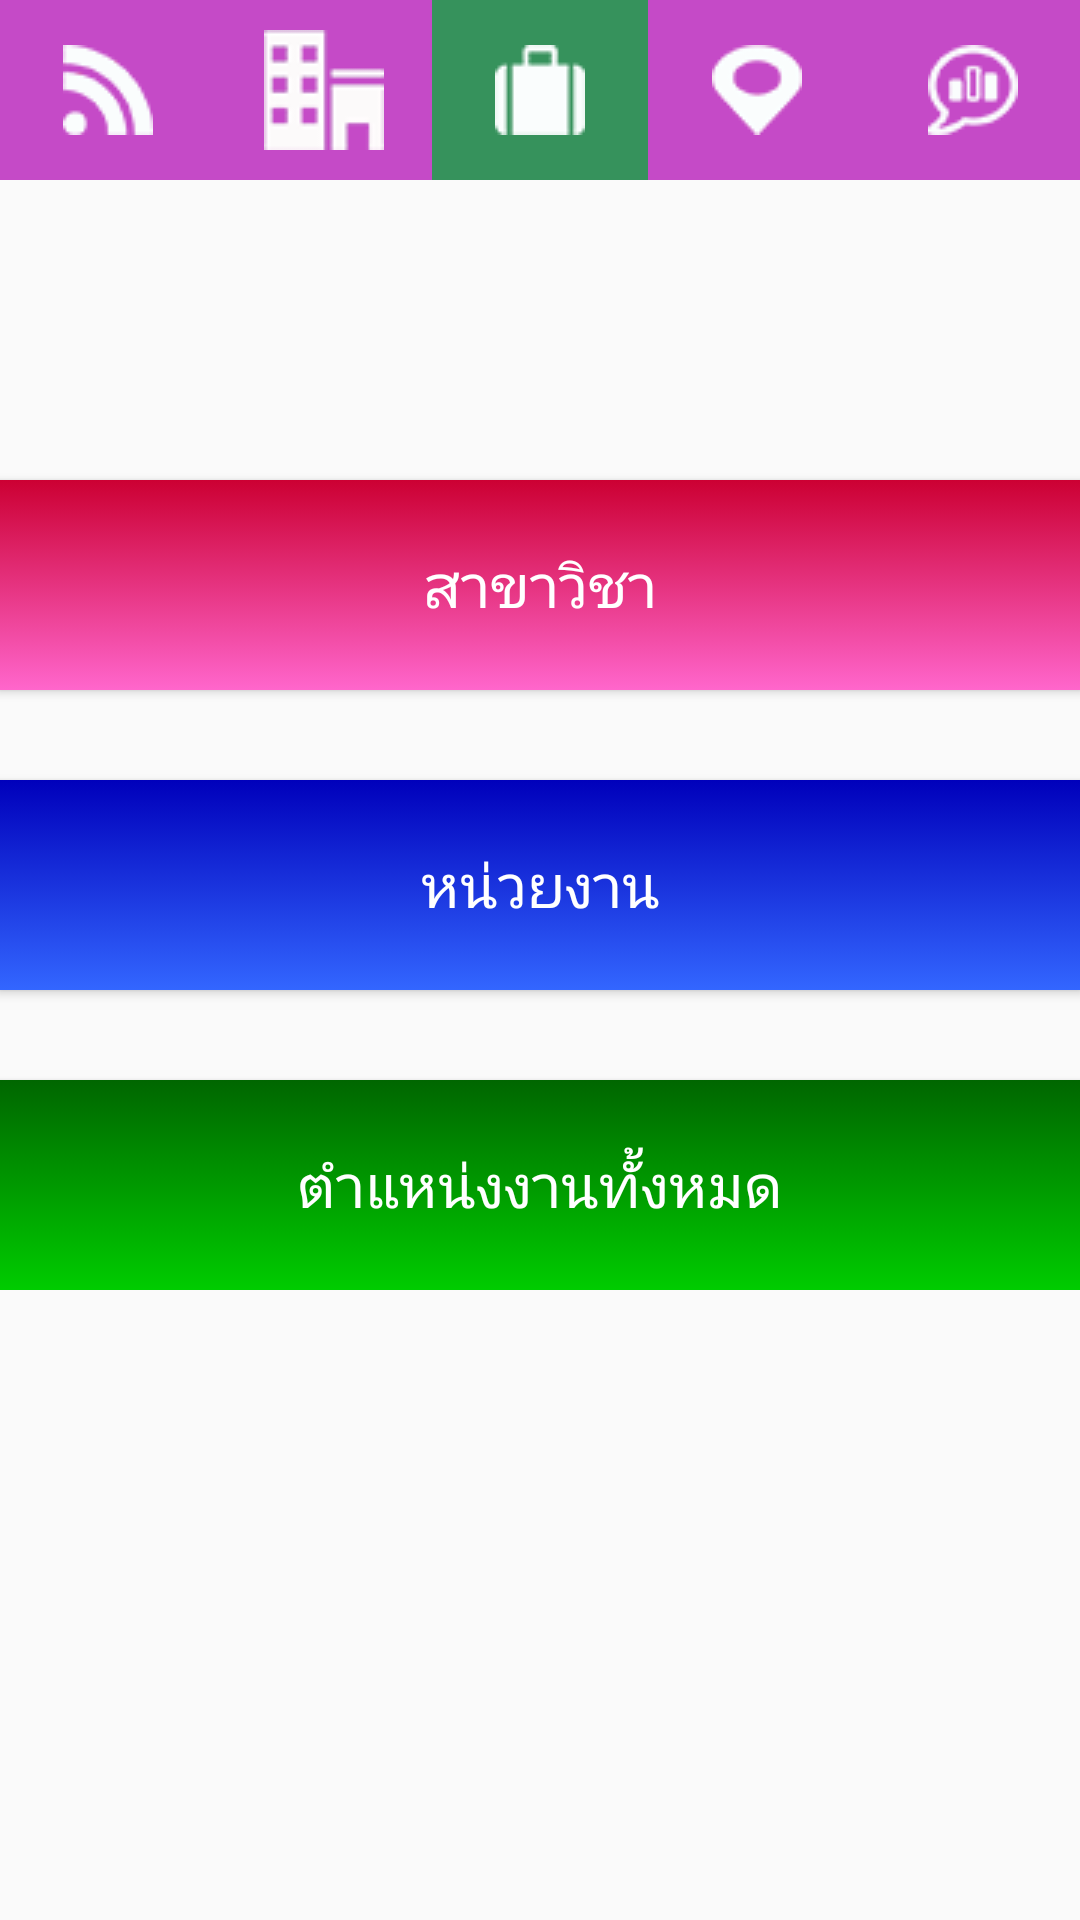

Point at icon controls on the screen. Image size 1080x1920, points as [x,y].
company: [324,90]
feed: [108,90]
job: [540,90]
poll: [973,90]
